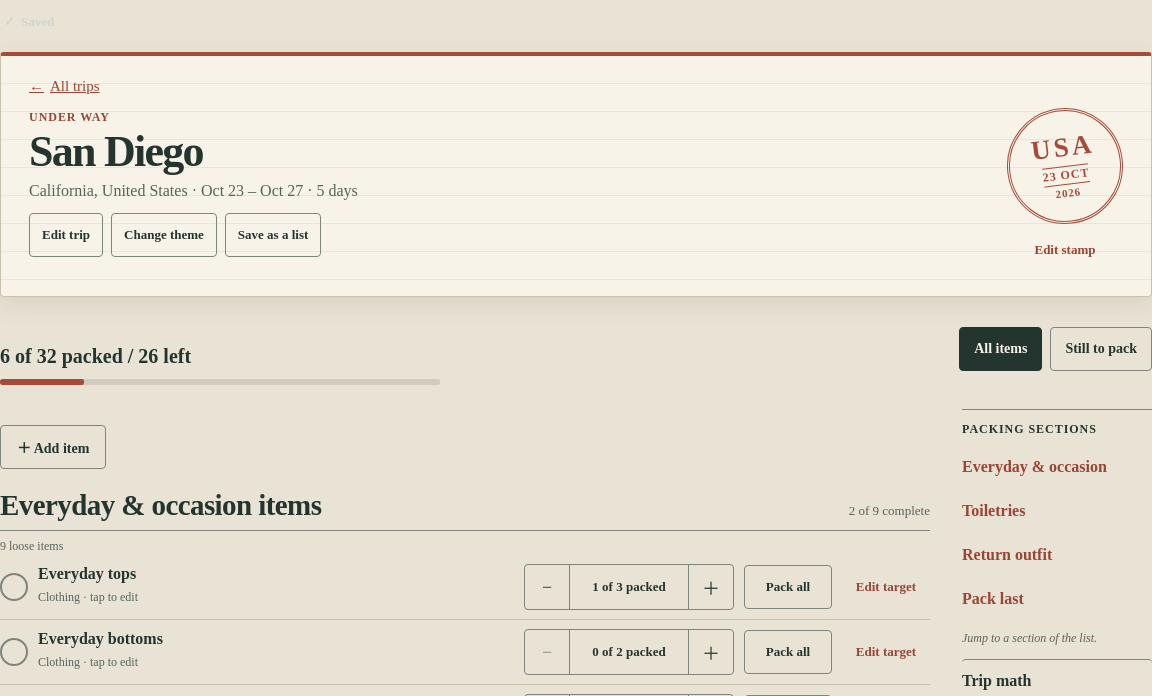
it: Edit trip: Route & dates › does not save while the route has problems, and says what to fix
Expected: the heading "San Diego" is shown, [29, 127, 203, 176]
Click the button "Edit trip" at (66, 235), box [29, 213, 103, 257]
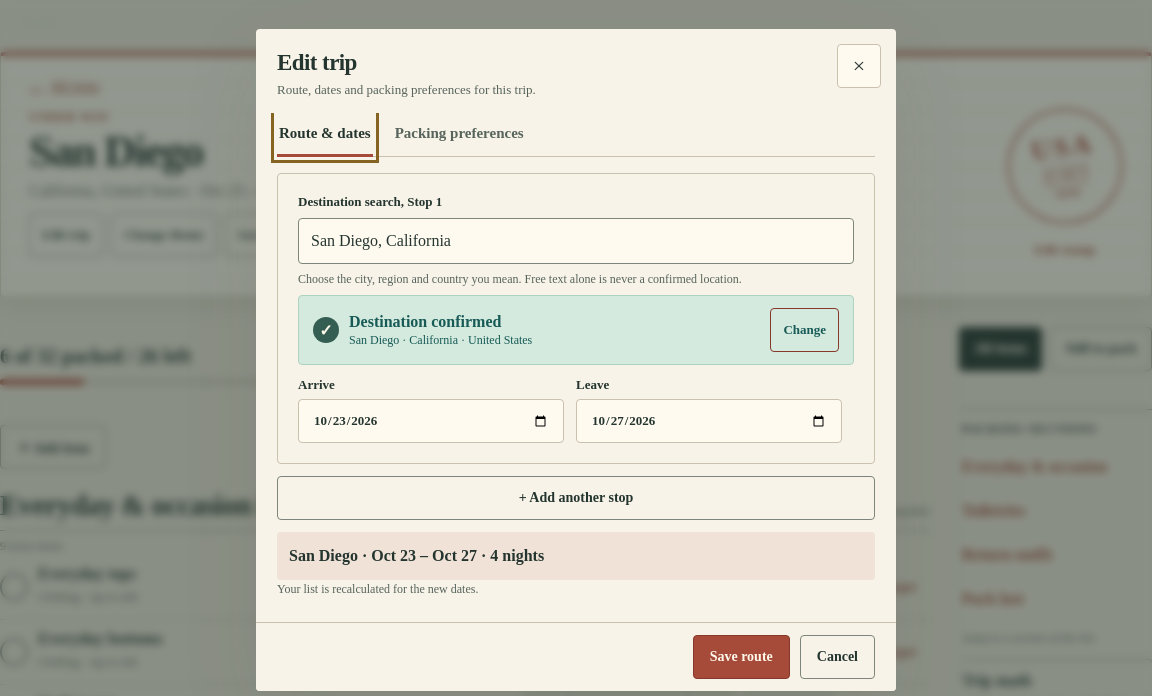
Click the button "+ Add another stop" at (576, 498), box [277, 476, 875, 520]
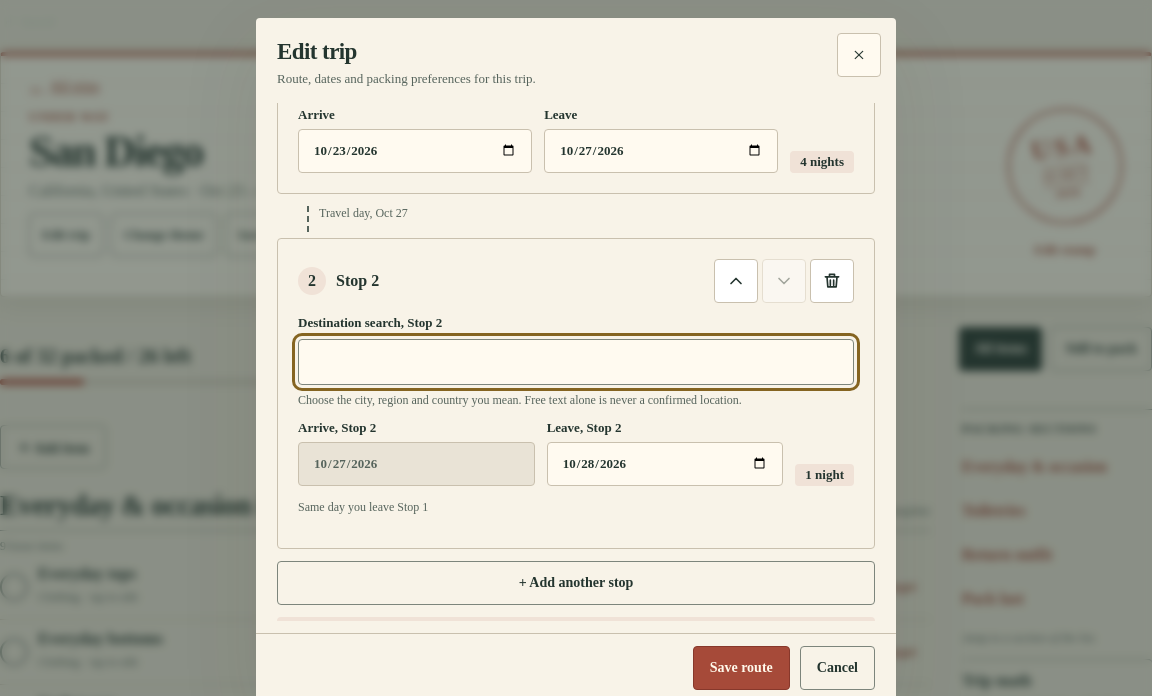
Click the button "Save route" at (741, 668), box [693, 646, 790, 690]
(page scrolled)
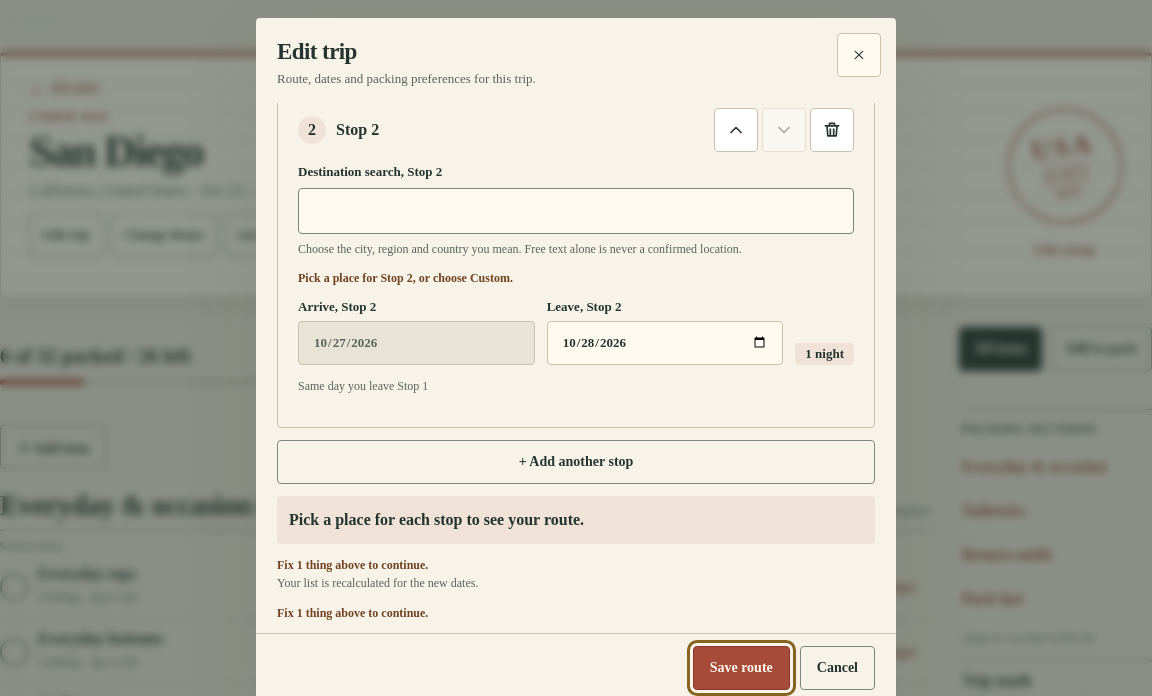
Expected: the text "Pick a place for Stop 2, or choose Custom." is shown, [298, 270, 513, 284]
Expected: the text "Fix 1 thing above to continue." is shown, [277, 558, 428, 572]
